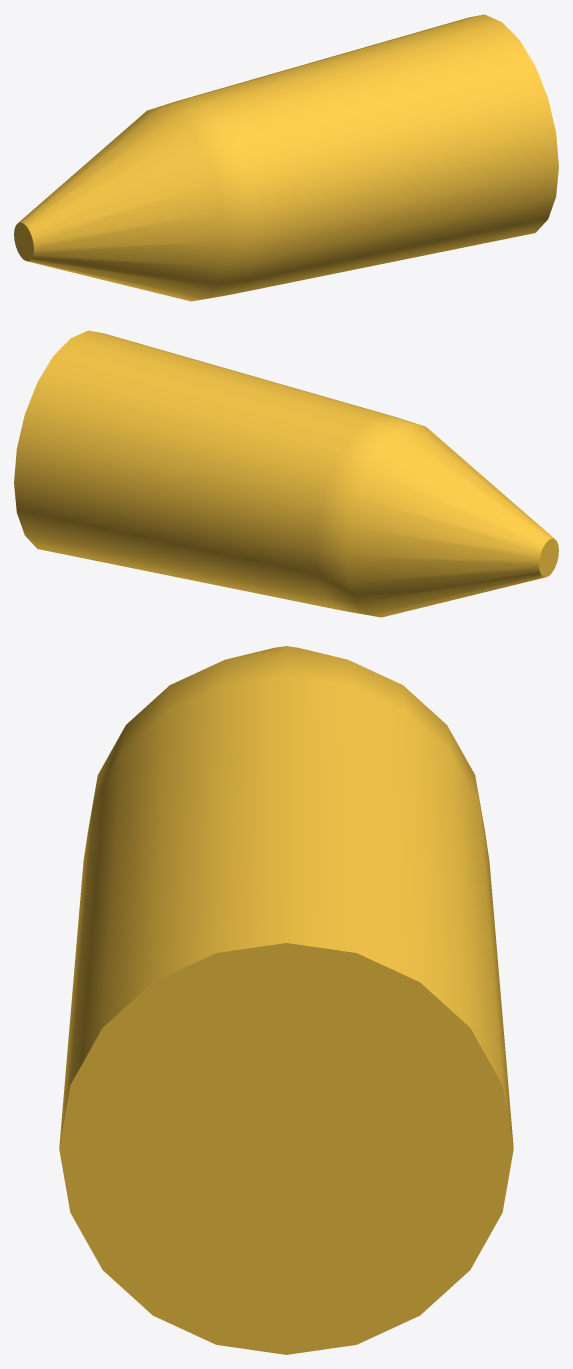
File: bullet.obj
The picture shows the model from 3 angles, top to bottom: view 1: azimuth 30°, elevation 25°; view 2: azimuth 150°, elevation 25°; view 3: azimuth 270°, elevation 25°; orthographic projection. The views are drawn at different scales.
Visible parts, largest first — view 1: pCylinder1; view 2: pCylinder1; view 3: pCylinder1.
Boxes of the visible parts, x1,y1,x2,y2 form: pCylinder1: (14, 14, 558, 301); pCylinder1: (14, 330, 558, 617); pCylinder1: (59, 646, 513, 1354).
Bounding box in the file's own units: 0.1458 × 0.06 × 0.06.
Materials: 1 (1 with a texture image).
